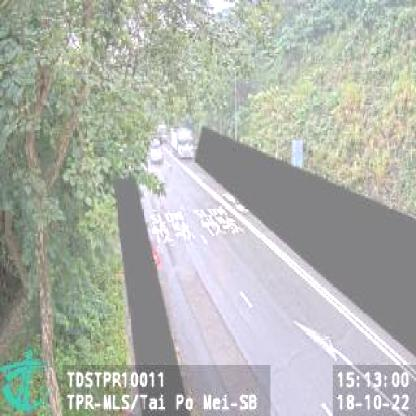Car: (146, 140, 164, 164)
Truck: (160, 124, 194, 158)
